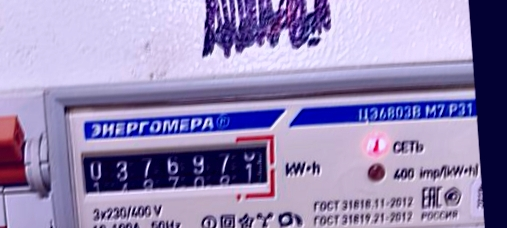0: (85, 160, 103, 183)
1: (242, 164, 254, 185)
3: (112, 161, 128, 185)
6: (164, 155, 179, 177)
7: (138, 156, 153, 181), (215, 152, 230, 176)
9: (189, 154, 204, 177)
screen: (72, 134, 280, 216)
